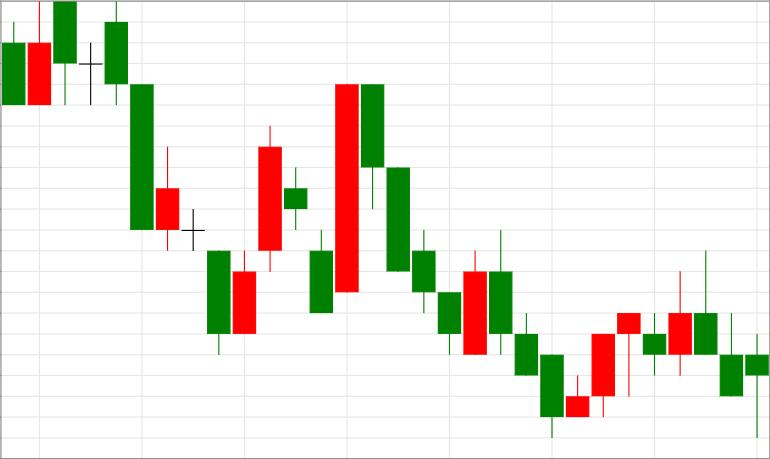bullish_engulfing_rise: (361, 85, 487, 355)
three_white_soldiers_rise: (489, 229, 641, 439)
